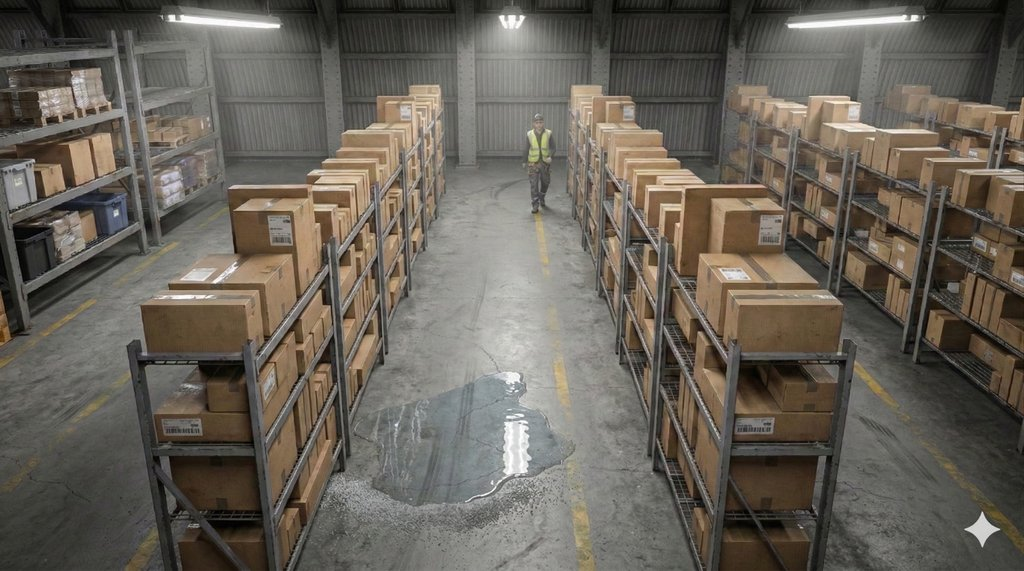empty_shelf: (123, 15, 224, 101), (0, 5, 119, 55)
person: (516, 85, 568, 220)
safety_vest: (523, 128, 557, 170)
spill: (360, 370, 546, 500)
